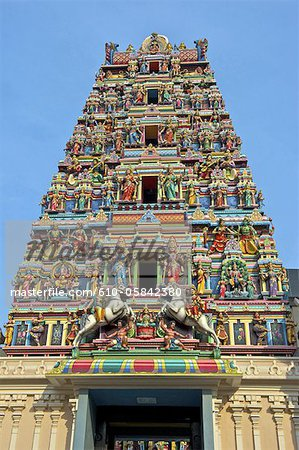Hindu Temple: (22, 26, 286, 440)
